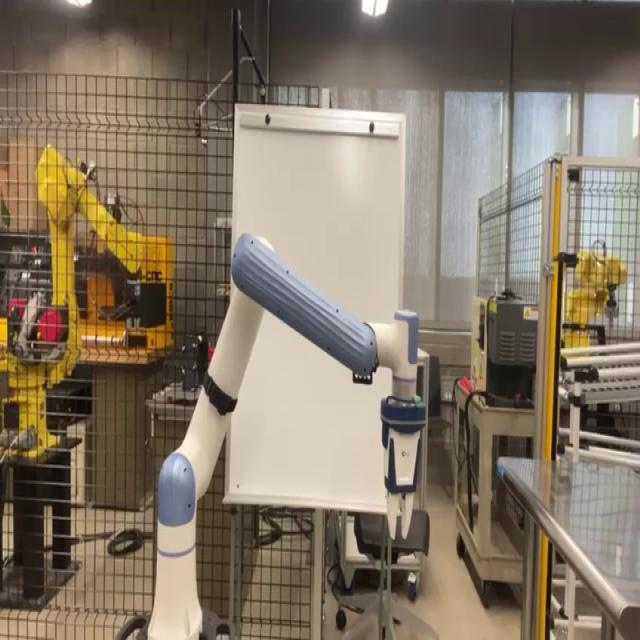robot: (120, 226, 434, 640)
